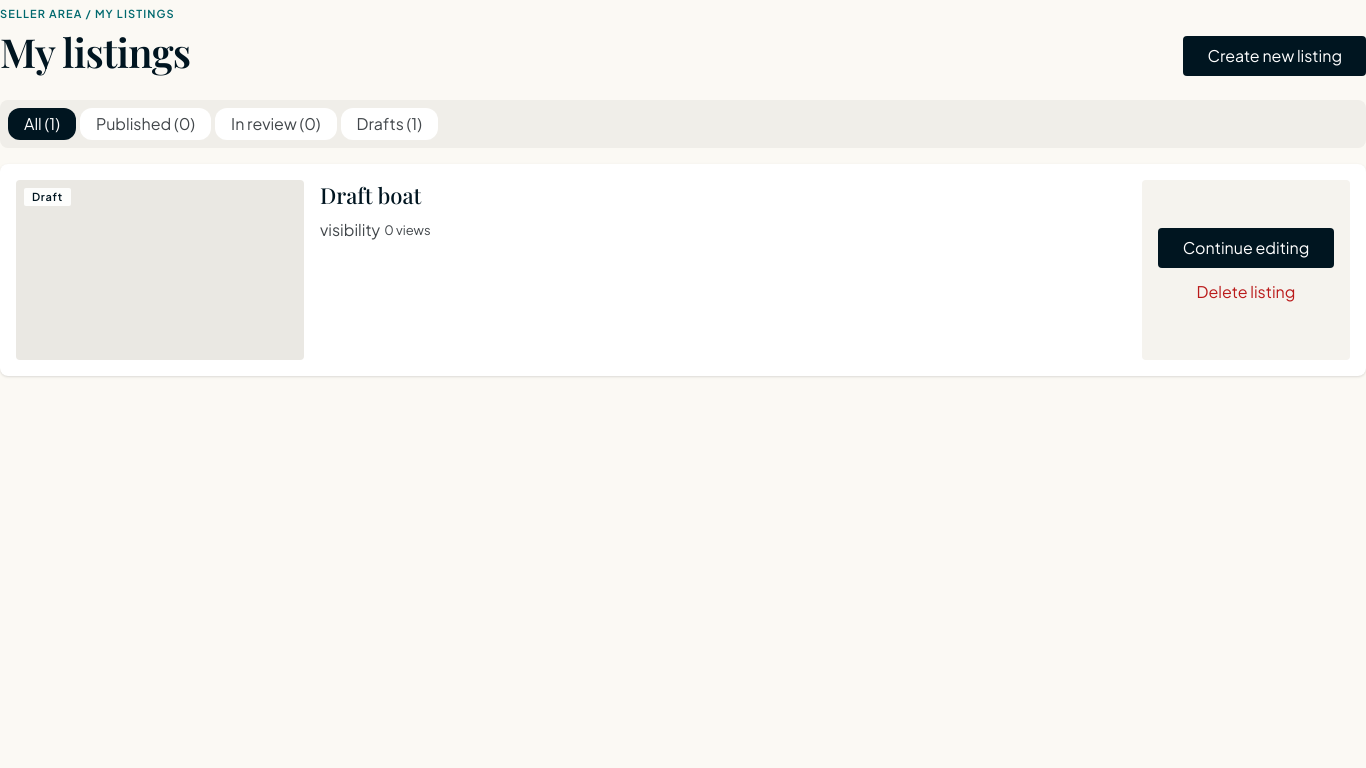
Test: MyListings › deletes a listing after confirmation and removes it from the list
The width and height of the screenshot is (1366, 768).
Expected: the heading "Draft boat" is shown, [320,180,421,210]
Click the button "Delete listing": (1246, 292) [1158,272,1334,312]
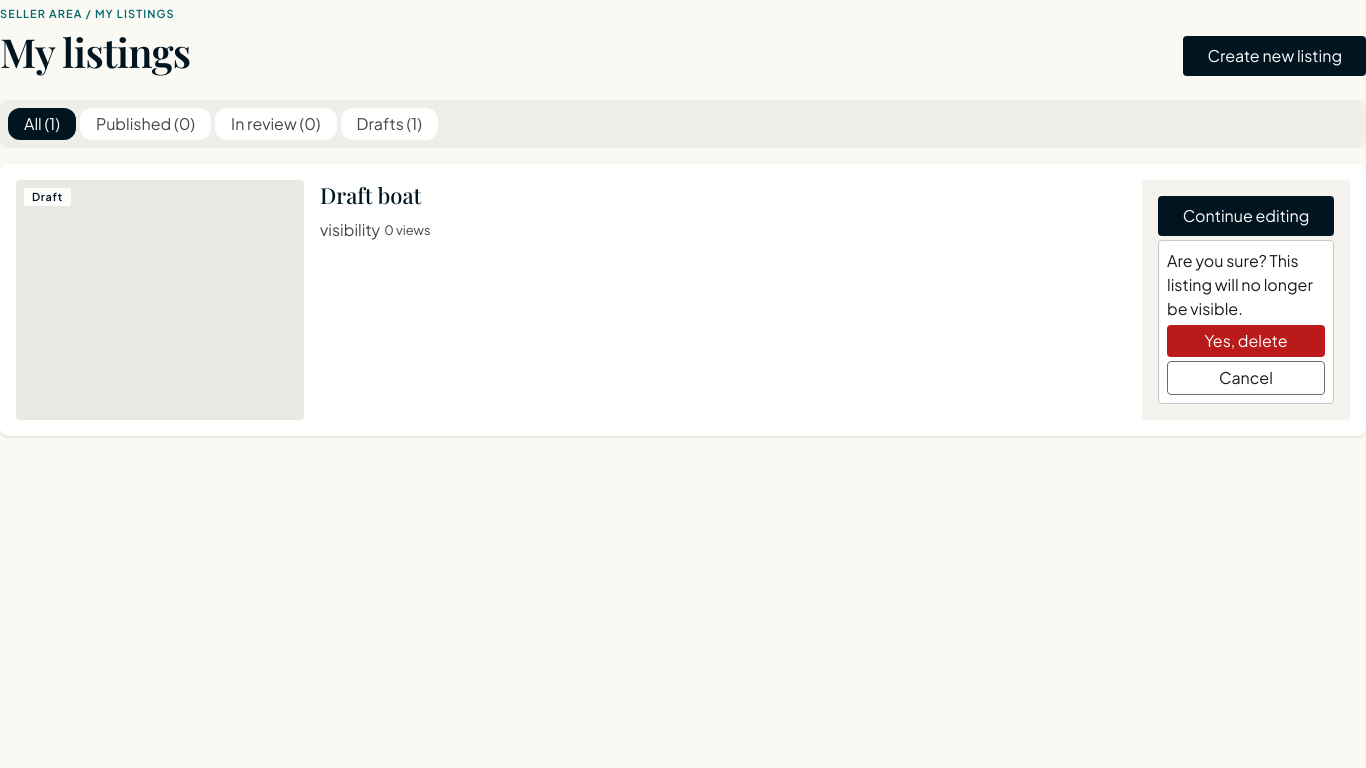
Result: the dialog named "Delete this listing" is shown at [1158,240,1334,404]
Click the button "Yes, delete": (1246, 341) [1167,325,1325,357]
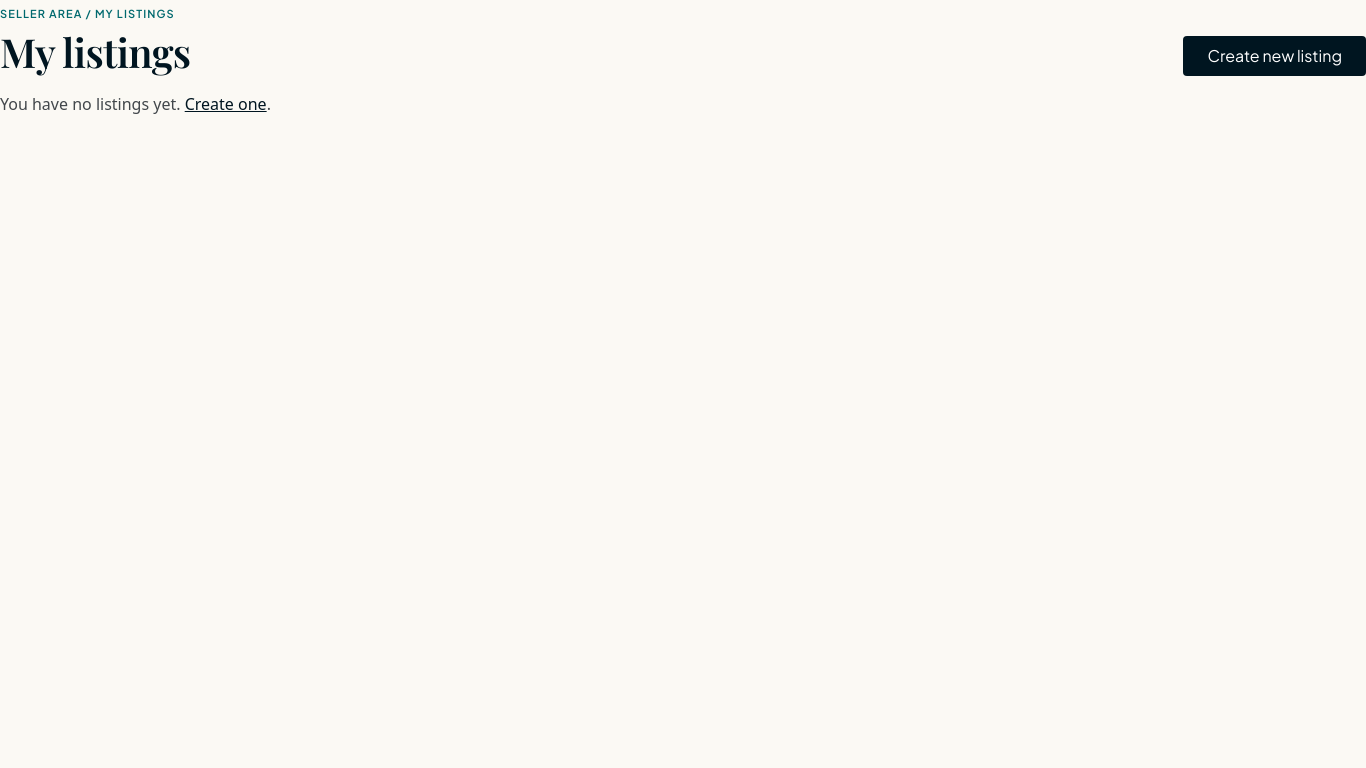
Result: the heading "Draft boat" is gone
